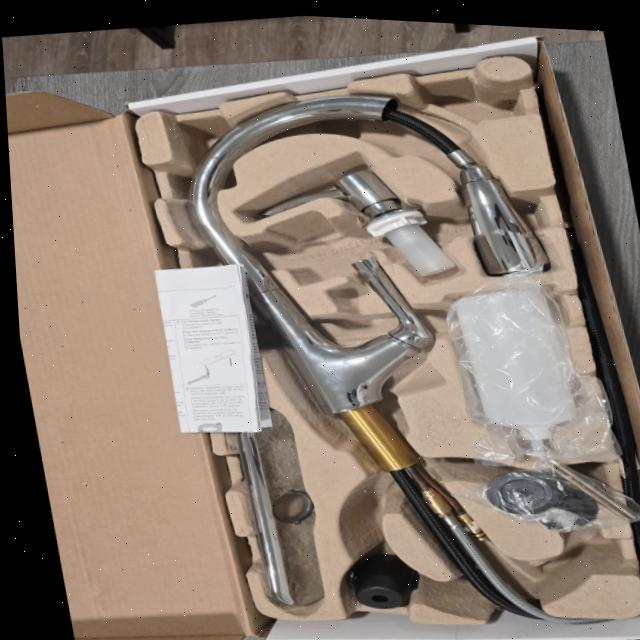1: (184, 94, 547, 613)
2: (261, 169, 455, 276)
3: (451, 288, 578, 456)
4: (233, 408, 321, 605)
5: (350, 554, 416, 610)
6m: (540, 539, 605, 583)
7: (468, 460, 640, 535)
8: (152, 263, 265, 433)
